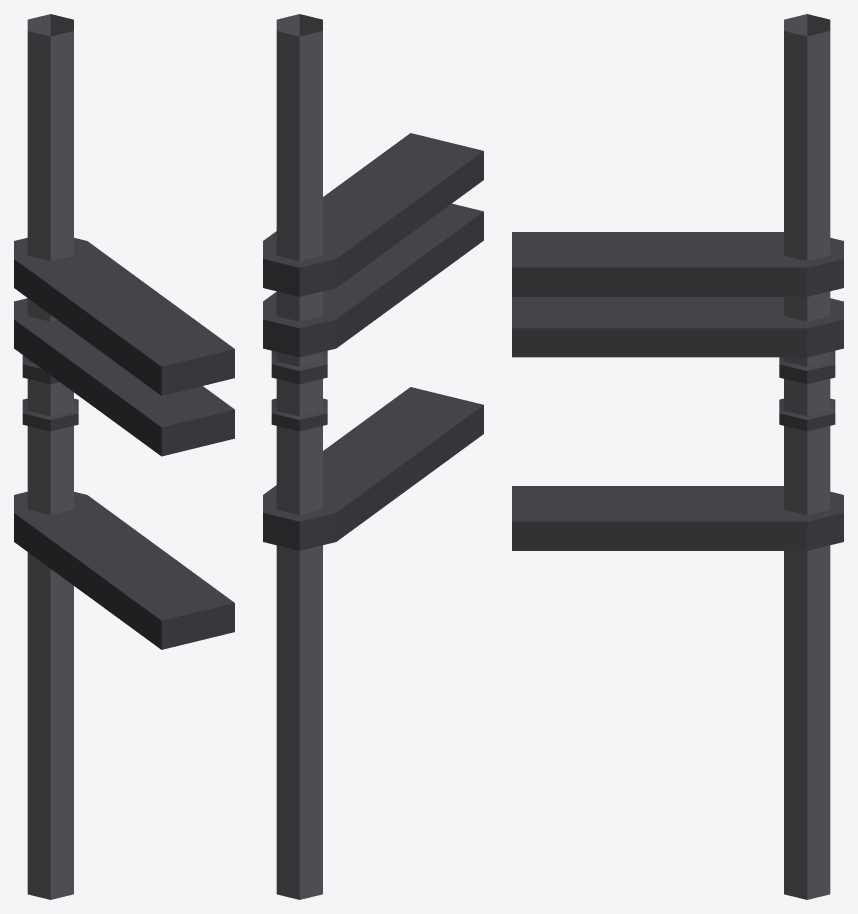
File: SM_Prop_Detail_Pipe_02.fbx
The picture shows the model from 3 angles, left to right: view 1: azimuth 30°, elevation 25°; view 2: azimuth 150°, elevation 25°; view 3: azimuth 270°, elevation 25°; orthographic projection.
Parts seen in each view (by area): view 1: SM_Prop_Detail_Pipe_02_LOD0; view 2: SM_Prop_Detail_Pipe_02_LOD0; view 3: SM_Prop_Detail_Pipe_02_LOD0.
Boxes of the visible parts, bbox=[...] form: SM_Prop_Detail_Pipe_02_LOD0: bbox=[14, 14, 234, 899]; SM_Prop_Detail_Pipe_02_LOD0: bbox=[263, 14, 483, 899]; SM_Prop_Detail_Pipe_02_LOD0: bbox=[512, 14, 843, 899].
Size of the model in its own units: 130 by 33.13 by 373.
1 material, 1 textured.
